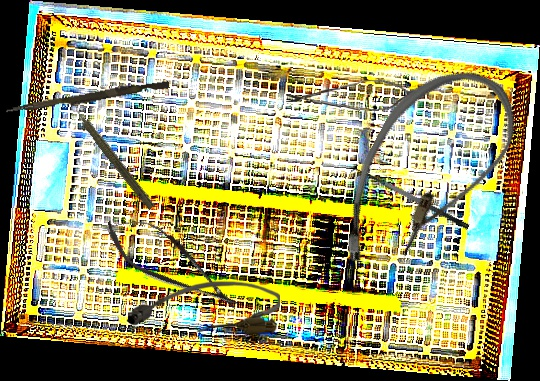Cannula: (320, 44, 533, 302), (128, 281, 280, 334)
Handpiece: (67, 100, 160, 212)
Micro Scissor: (95, 202, 250, 326), (285, 77, 415, 116)
Pusher: (5, 76, 170, 120)
Spatula Surgical: (348, 161, 470, 240)
